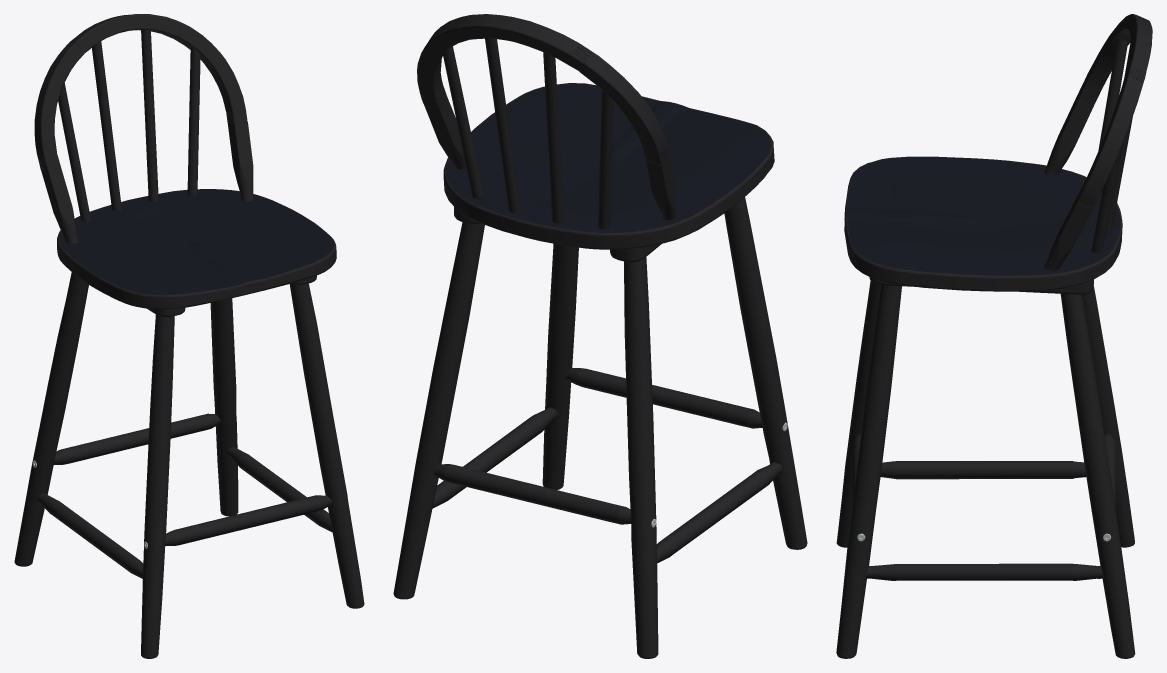
Rendered from skogsta_stoek_barowy_z_oparciem_00621009.glb.
The picture shows the model from 3 angles, left to right: view 1: azimuth 30°, elevation 25°; view 2: azimuth 150°, elevation 25°; view 3: azimuth 270°, elevation 25°; orthographic projection. The views are drawn at different scales.
Visible parts, largest first — view 1: skogsta_stoek_barowy_z_oparciem_00621009; view 2: skogsta_stoek_barowy_z_oparciem_00621009; view 3: skogsta_stoek_barowy_z_oparciem_00621009.
Boxes of the visible parts, box(x1,y1,x2,y2) form: skogsta_stoek_barowy_z_oparciem_00621009: box(14, 14, 364, 658); skogsta_stoek_barowy_z_oparciem_00621009: box(393, 14, 807, 658); skogsta_stoek_barowy_z_oparciem_00621009: box(836, 14, 1152, 658).
Bounding box in the file's own units: 0.4105 × 0.9145 × 0.4576.
Materials: 1 (1 with a texture image).
